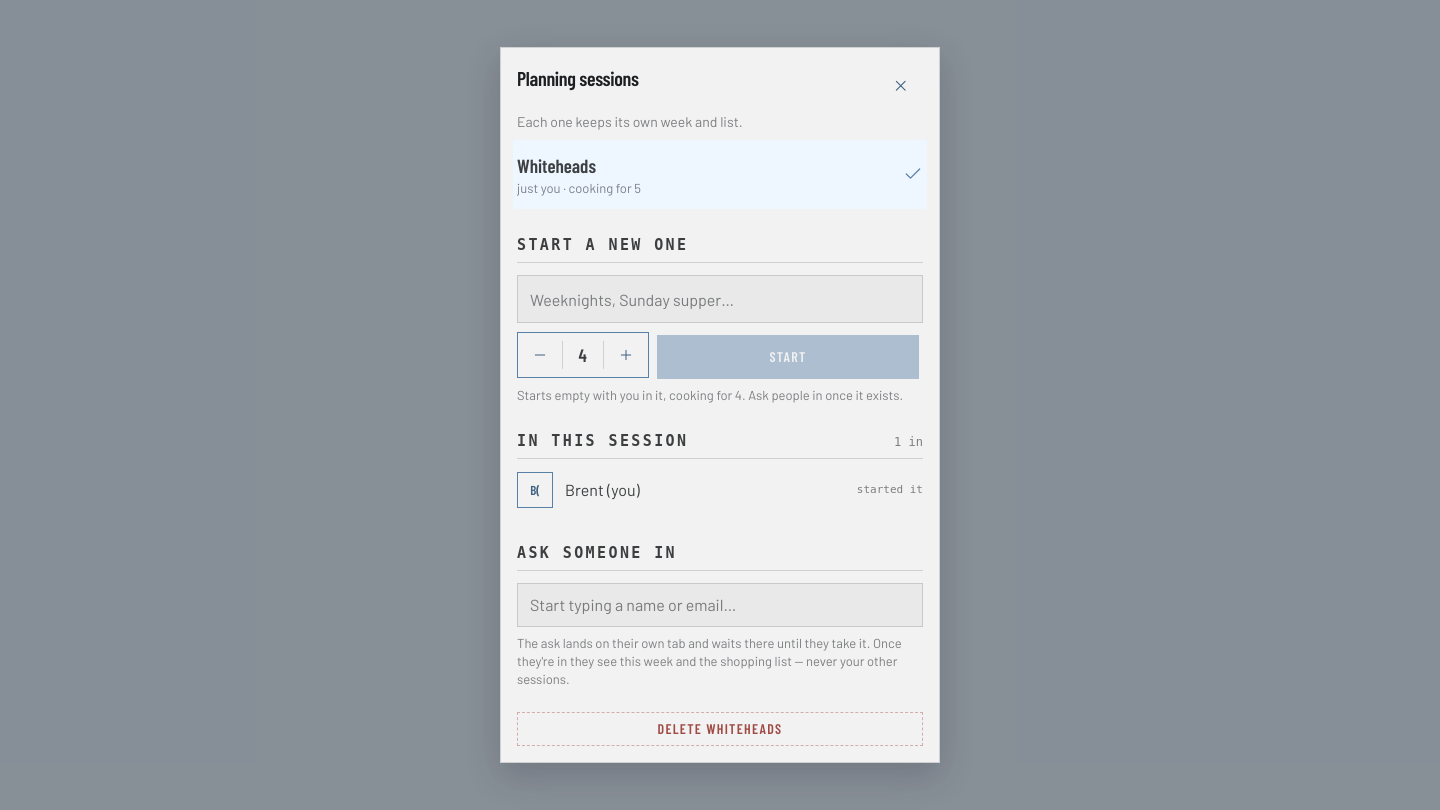
Scenario: who a row is › carries the address under every name
This screenshot has width=1440, height=810.
Type "kay" into the search field named "search people". click: (720, 605)
box: 517,583 -> 923,627
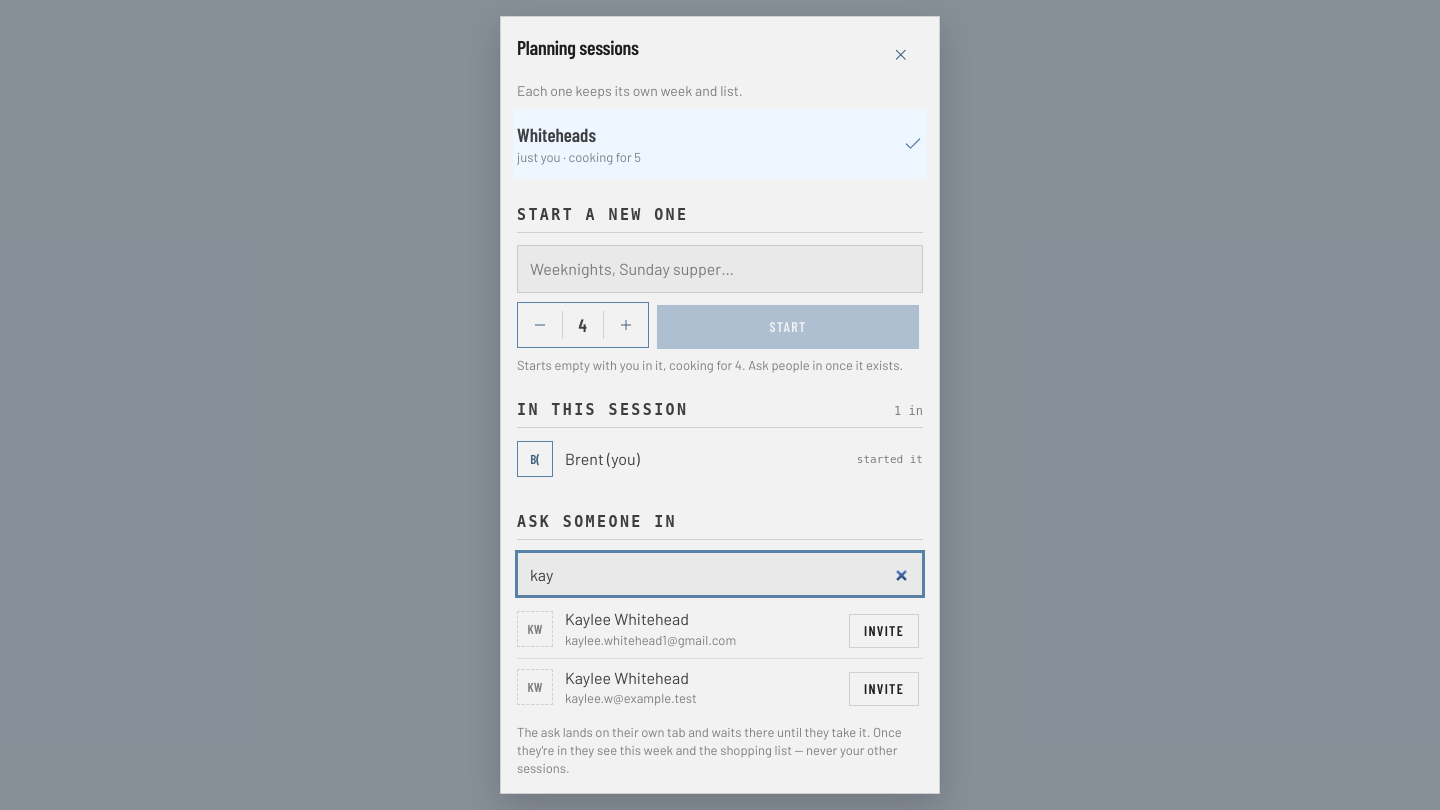
Check: the text "Kaylee Whitehead" is shown 2 times, box 565,609 -> 689,628; 565,668 -> 689,687
Check: the text "kaylee.whitehead1@gmail.com" is shown, box 565,632 -> 736,648
Check: the text "kaylee.w@example.test" is shown, box 565,690 -> 697,706
